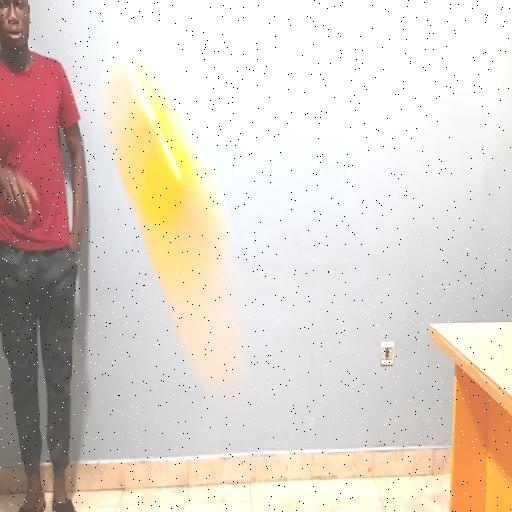plastic-ball: (95, 45, 252, 402)
